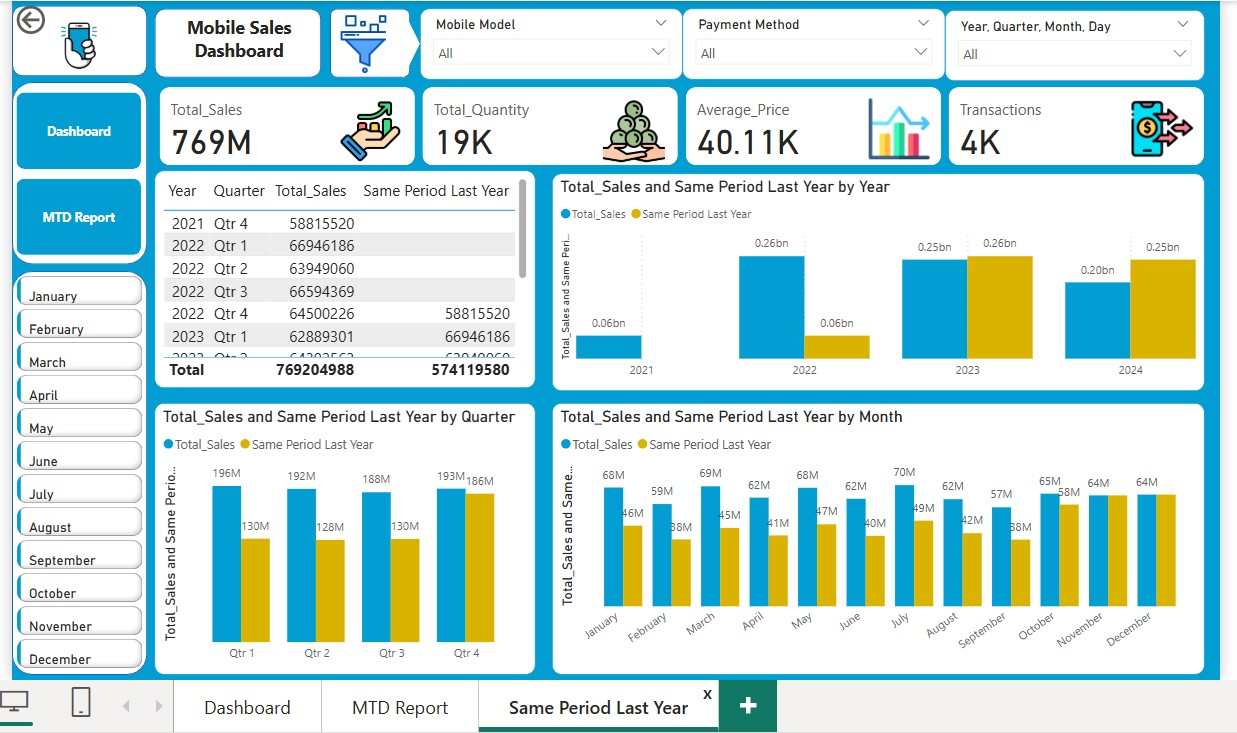

What the dashboard file says about the page in this screenshot:
{"tool":"powerbi","page":{"name":"Same Period Last Year","canvas":[1280,720],"ordinal":2},"visuals":[{"type":"shape","box":[0,5,143.3,75],"z":0},{"type":"image","box":[33.3,8.3,75,75],"z":1000},{"type":"shape","box":[0,86.7,143.3,193.3],"z":2000},{"type":"cardVisual","fields":{"Data":["Sales_Data.Total_Sales","Sales_Data.Total_Quantity","Sales_Data.Average_Price","Sales_Data.Transactions"]},"box":[151.7,86.7,1121.7,93.3],"z":3000},{"type":"slicer","fields":{"Values":["Sales_Data.Mobile Model"]},"box":[433.3,8.3,278.3,75],"z":4000},{"type":"slicer","fields":{"Values":["Sales_Data.Payment Method"]},"box":[711.7,8.3,278.3,75],"z":5000},{"type":"slicer","fields":{"Values":["Custom_calendar.Date.Variation.Date Hierarchy.Year","Custom_calendar.Date.Variation.Date Hierarchy.Quarter","Custom_calendar.Date.Variation.Date Hierarchy.Month","Custom_calendar.Date.Variation.Date Hierarchy.Day"]},"box":[990,10,275,75],"z":6000},{"type":"shape","box":[336.7,8.3,85,73.3],"z":7000},{"type":"image","box":[336.7,5,73.3,81.7],"z":8000},{"type":"shape","box":[396.7,8.3,36.7,75],"z":9000},{"type":"shape","box":[151.7,8.3,176.7,73.3],"z":10000},{"type":"textbox","box":[160,10,160,71.7],"z":11000},{"type":"shape","box":[0,286.7,143.3,428.3],"z":12000},{"type":"advancedSlicerVisual","fields":{"Values":["Custom_calendar.Date.Variation.Date Hierarchy.Month"]},"box":[0,286.3,143.2,434.2],"z":13000},{"type":"actionButton","box":[0,0,100,40],"z":14000},{"type":"tableEx","fields":{"Values":["Custom_calendar.Date.Variation.Date Hierarchy.Year","Custom_calendar.Date.Variation.Date Hierarchy.Quarter","Sales_Data.Total_Sales","Sales_Data.Same Period Last Year"]},"box":[151.1,179.7,404,230.6],"z":15000},{"type":"clusteredColumnChart","fields":{"Category":["Custom_calendar.Date.Variation.Date Hierarchy.Year","Custom_calendar.Date.Variation.Date Hierarchy.Quarter"],"Y":["Sales_Data.Total_Sales","Sales_Data.Same Period Last Year"]},"box":[572.6,182.9,691.9,230.6],"z":16000},{"type":"clusteredColumnChart","fields":{"Category":["Custom_calendar.Date.Variation.Date Hierarchy.Year","Custom_calendar.Date.Variation.Date Hierarchy.Quarter","Custom_calendar.Date.Variation.Date Hierarchy.Month"],"Y":["Sales_Data.Total_Sales","Sales_Data.Same Period Last Year"]},"box":[572.6,426.3,691.9,287.9],"z":17000},{"type":"clusteredColumnChart","fields":{"Category":["Custom_calendar.Date.Variation.Date Hierarchy.Year","Custom_calendar.Date.Variation.Date Hierarchy.Quarter"],"Y":["Sales_Data.Total_Sales","Sales_Data.Same Period Last Year"]},"box":[151.1,426.3,404,287.9],"z":18000},{"type":"pageNavigator","box":[4.8,97,132,173.4],"z":19000}]}

Visuals, with their boxes on the page's 1280x720 design canvas (x1, y1, x2, y2). These are canvas units, not pixel positions in the 1237x733 screenshot, which may show the page scaled, cropped or inside an application window:
shape: 0:5:143:80
image: 33:8:108:83
shape: 0:87:143:280
cardVisual - Sales_Data.Total_Sales x Sales_Data.Total_Quantity: 152:87:1273:180
slicer - Sales_Data.Mobile Model: 433:8:712:83
slicer - Sales_Data.Payment Method: 712:8:990:83
slicer - Custom_calendar.Date.Variation.Date Hierarchy.Year x Custom_calendar.Date.Variation.Date Hierarchy.Quarter: 990:10:1265:85
shape: 337:8:422:82
image: 337:5:410:87
shape: 397:8:433:83
shape: 152:8:328:82
textbox: 160:10:320:82
shape: 0:287:143:715
advancedSlicerVisual - Custom_calendar.Date.Variation.Date Hierarchy.Month: 0:286:143:720
actionButton: 0:0:100:40
tableEx - Custom_calendar.Date.Variation.Date Hierarchy.Year x Custom_calendar.Date.Variation.Date Hierarchy.Quarter: 151:180:555:410
clusteredColumnChart - Custom_calendar.Date.Variation.Date Hierarchy.Year x Custom_calendar.Date.Variation.Date Hierarchy.Quarter: 573:183:1264:414
clusteredColumnChart - Custom_calendar.Date.Variation.Date Hierarchy.Year x Custom_calendar.Date.Variation.Date Hierarchy.Quarter: 573:426:1264:714
clusteredColumnChart - Custom_calendar.Date.Variation.Date Hierarchy.Year x Custom_calendar.Date.Variation.Date Hierarchy.Quarter: 151:426:555:714
pageNavigator: 5:97:137:270
